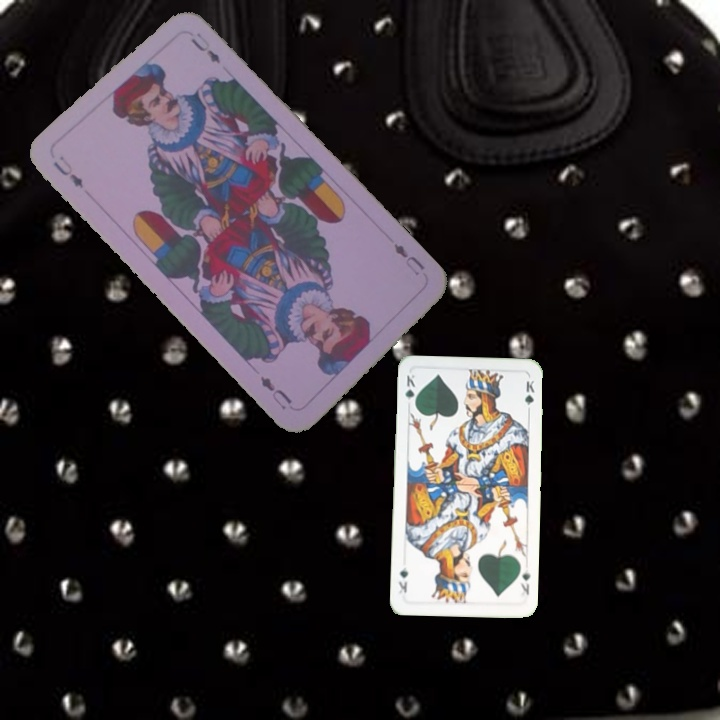EU: (49, 151, 87, 191), (389, 239, 427, 278)
GK: (401, 371, 418, 410), (516, 566, 533, 597)
